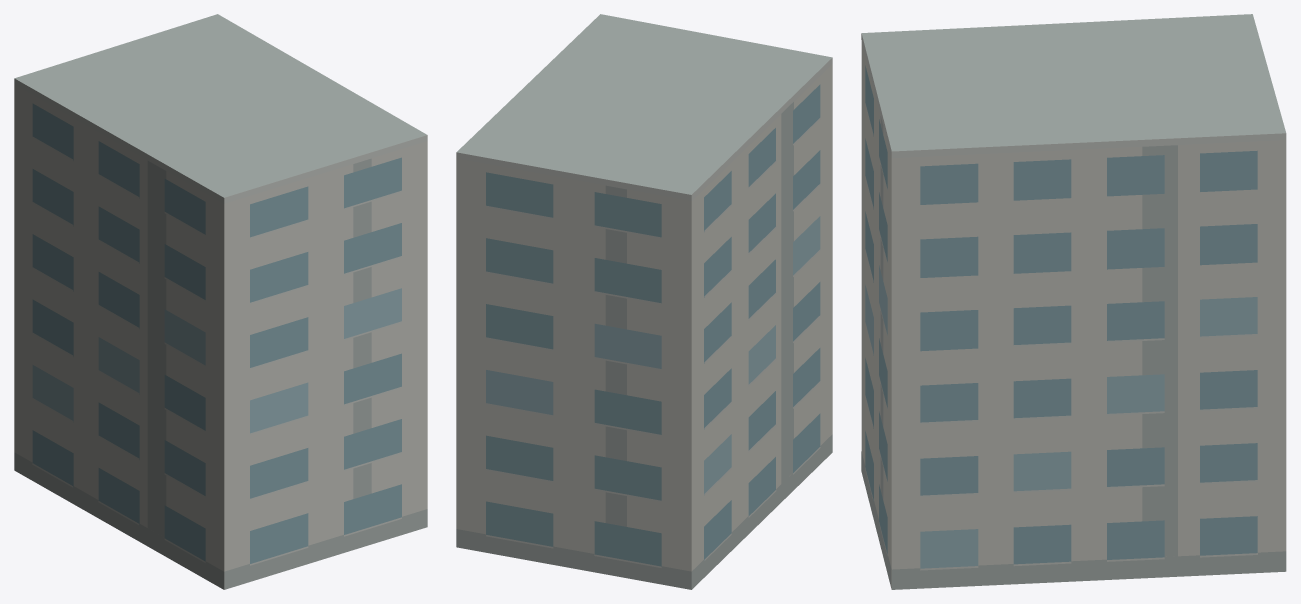
Rendered from survey-upis-32890993.glb.
The picture shows the model from 3 angles, left to right: view 1: azimuth 30°, elevation 25°; view 2: azimuth 150°, elevation 25°; view 3: azimuth 270°, elevation 25°; orthographic projection. The views are drawn at different scales.
Parts seen in each view (by area): view 1: survey-upis-32890993.tmp; view 2: survey-upis-32890993.tmp; view 3: survey-upis-32890993.tmp.
Boxes of the visible parts, x1=… form: survey-upis-32890993.tmp: x1=14, y1=14, x2=427, y2=589; survey-upis-32890993.tmp: x1=456, y1=14, x2=832, y2=589; survey-upis-32890993.tmp: x1=861, y1=14, x2=1286, y2=589.
Size of the model in its own units: 10.43 by 15.5 by 13.62.
